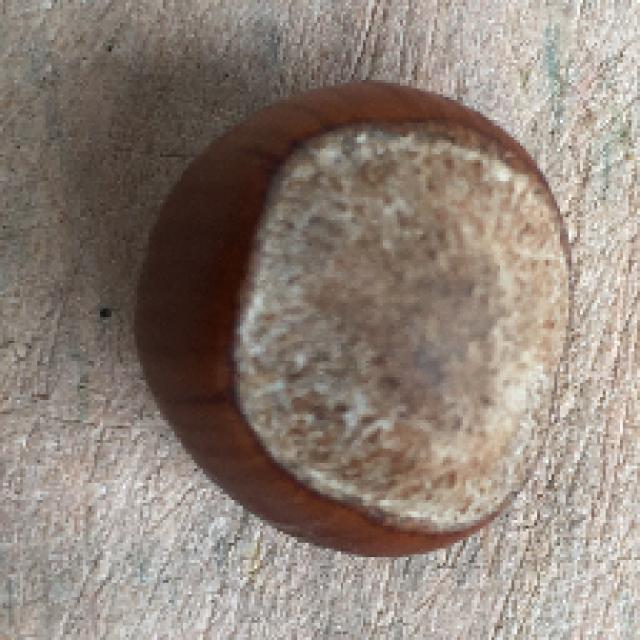qualityHazelnut: (126, 78, 577, 559)
